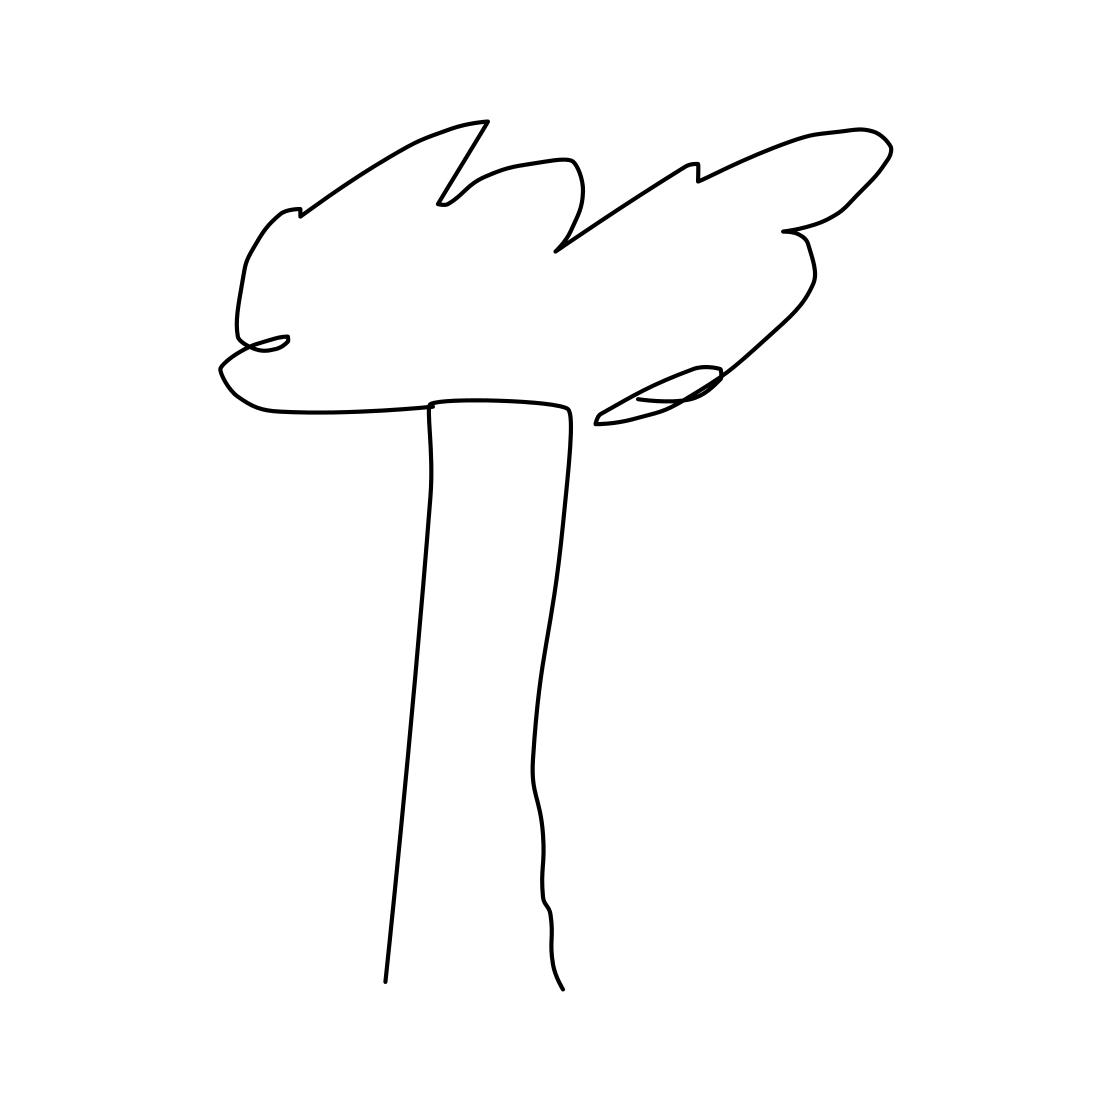Tree: (140, 83, 934, 1015)
